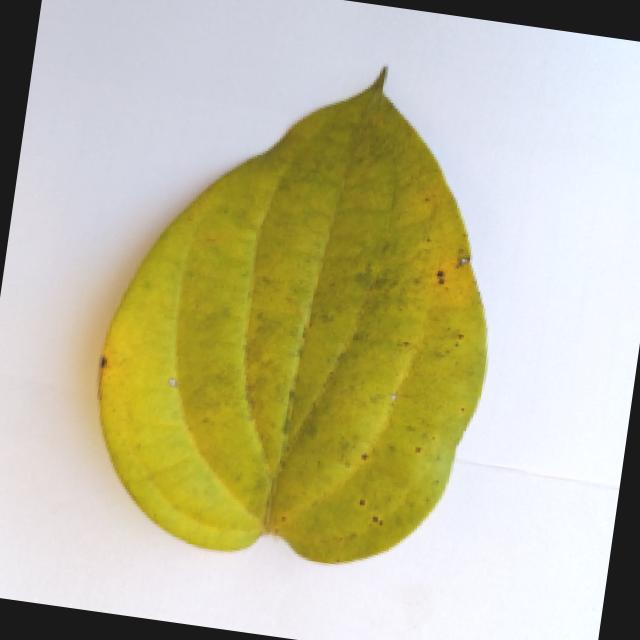slow-decline: (72, 37, 522, 588)
